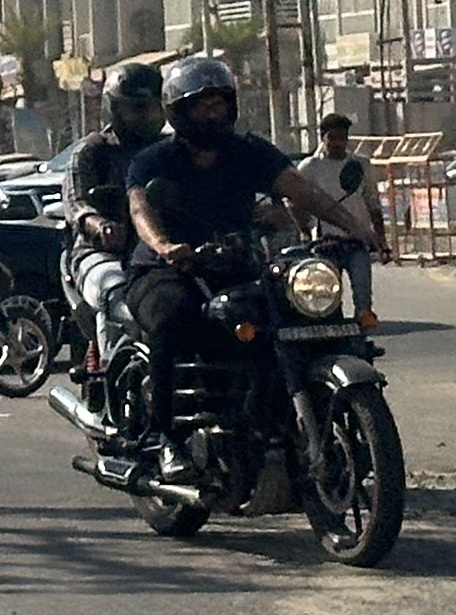BikeWithRider: (41, 44, 416, 574)
Helmet: (155, 50, 249, 151), (93, 55, 173, 144)
